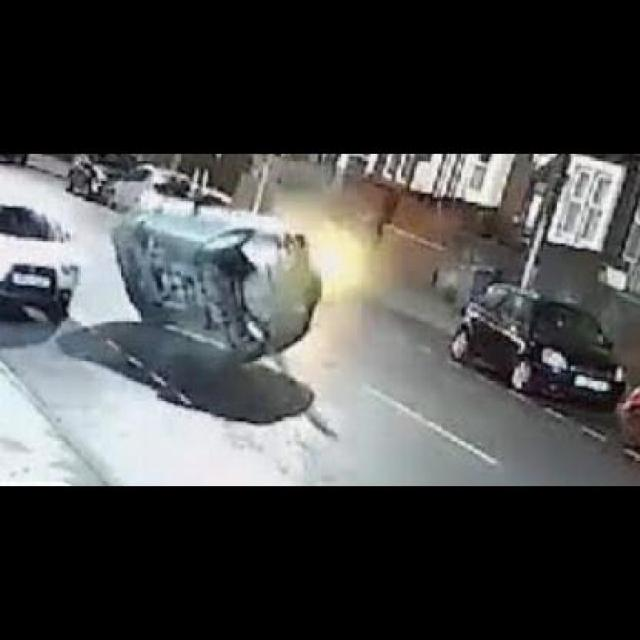accident: (106, 195, 328, 372)
